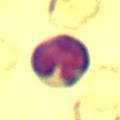monocyte: (29, 32, 91, 87)
